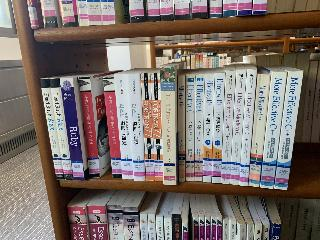book-spine: (273, 69, 303, 190), (260, 70, 287, 189), (246, 73, 271, 187), (59, 77, 84, 182), (39, 77, 64, 181), (49, 78, 73, 181), (78, 76, 100, 179), (114, 73, 134, 180), (239, 69, 257, 186), (127, 73, 146, 181), (102, 77, 122, 179), (229, 69, 246, 185), (160, 65, 176, 184), (221, 70, 236, 184), (210, 72, 225, 184), (140, 73, 155, 181), (202, 73, 215, 182), (151, 73, 164, 181), (193, 74, 204, 182), (185, 74, 195, 181), (178, 75, 186, 182)
